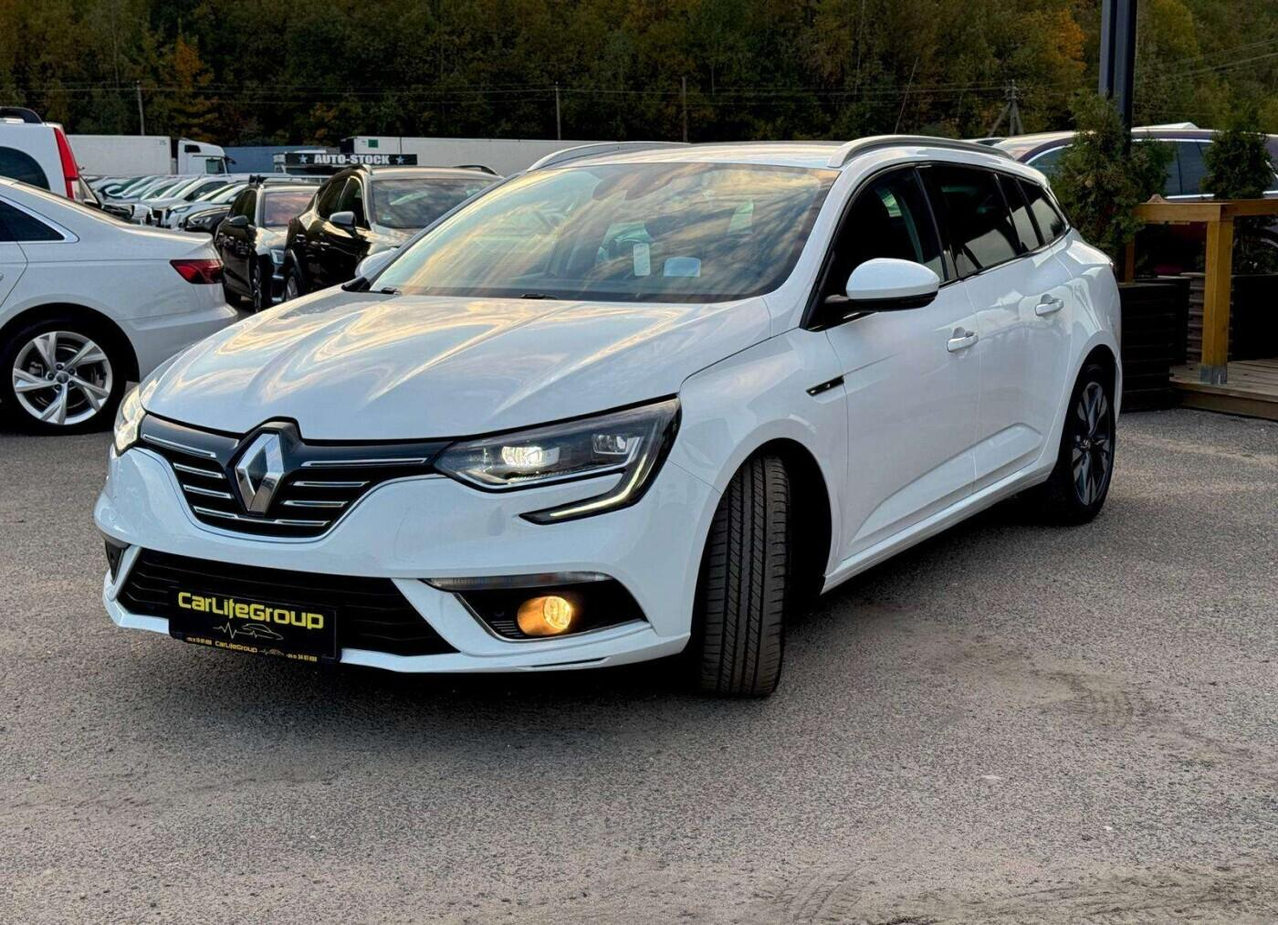Megane_2016-2020: (98, 120, 1129, 707)
